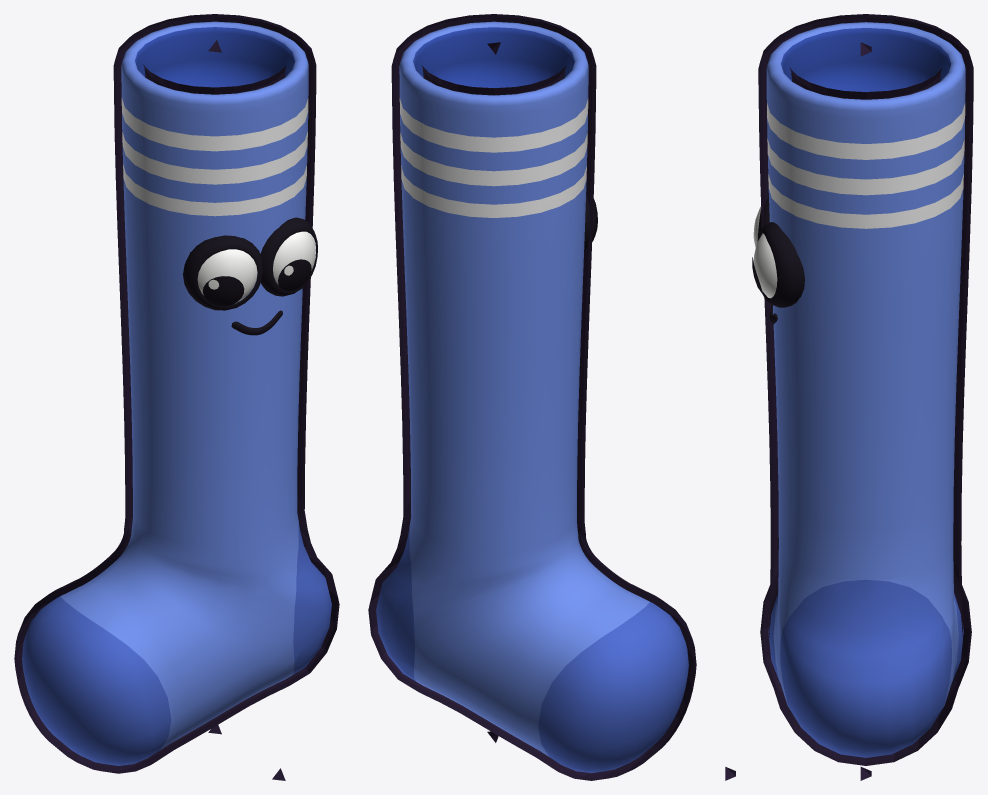
Rendered from KneeHigh_L.glb.
3 views of the same model, side by side, from view 1: azimuth 30°, elevation 25°; view 2: azimuth 150°, elevation 25°; view 3: azimuth 270°, elevation 25° (orthographic). The views are drawn at different scales.
Parts seen in each view (by area): view 1: KneeHigh_L, KneeHigh_L_Outline; view 2: KneeHigh_L, KneeHigh_L_Outline; view 3: KneeHigh_L, KneeHigh_L_Outline.
Part boxes in pixels (x1,y1,x2,y2): KneeHigh_L: (22,21,331,765); KneeHigh_L_Outline: (14,14,339,773); KneeHigh_L: (376,21,688,773); KneeHigh_L_Outline: (368,14,696,780); KneeHigh_L: (752,22,965,757); KneeHigh_L_Outline: (758,14,973,765).
Bounding box in the file's own units: 2.68 × 6 × 1.83.
Materials: 1 (1 with a texture image).
